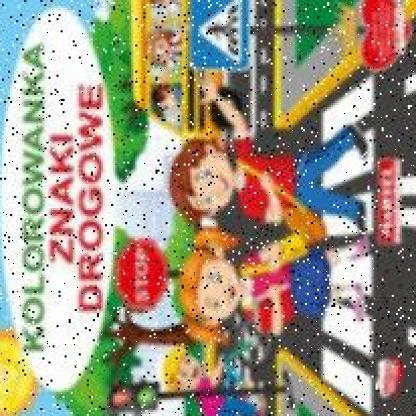Pedestrian Crossing: (191, 1, 251, 72)
